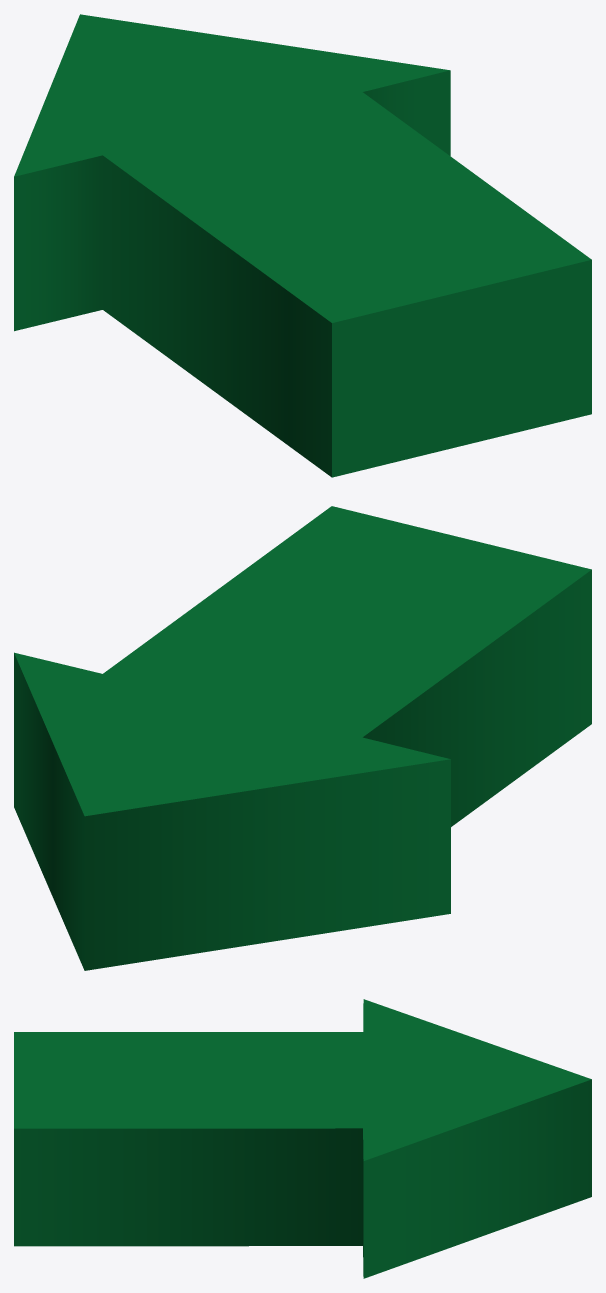
Rendered from arrow pointer.FBX.
3 views of the same model, one above another, from view 1: azimuth 30°, elevation 25°; view 2: azimuth 150°, elevation 25°; view 3: azimuth 270°, elevation 25° (orthographic). The views are drawn at different scales.
Parts seen in each view (by area): view 1: Box01; view 2: Box01; view 3: Box01.
Part boxes in pixels (left/top/right/bottom): Box01: left=14, top=14, right=591, bottom=477; Box01: left=14, top=506, right=591, bottom=970; Box01: left=14, top=999, right=591, bottom=1278.
Size of the model in its own units: 50.52 by 17.08 by 76.05.
